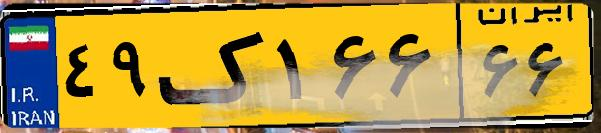1: (270, 28, 330, 110)
4: (57, 26, 110, 100)
6: (385, 28, 445, 110), (330, 28, 385, 110), (475, 38, 525, 113), (525, 38, 570, 115)
9: (110, 28, 158, 98)
ک: (158, 12, 270, 120)
